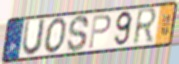9: (112, 10, 134, 48)
O: (43, 17, 69, 55)
P: (87, 14, 112, 51)
R: (131, 7, 159, 48)
S: (66, 14, 91, 53)
U: (20, 18, 48, 58)
